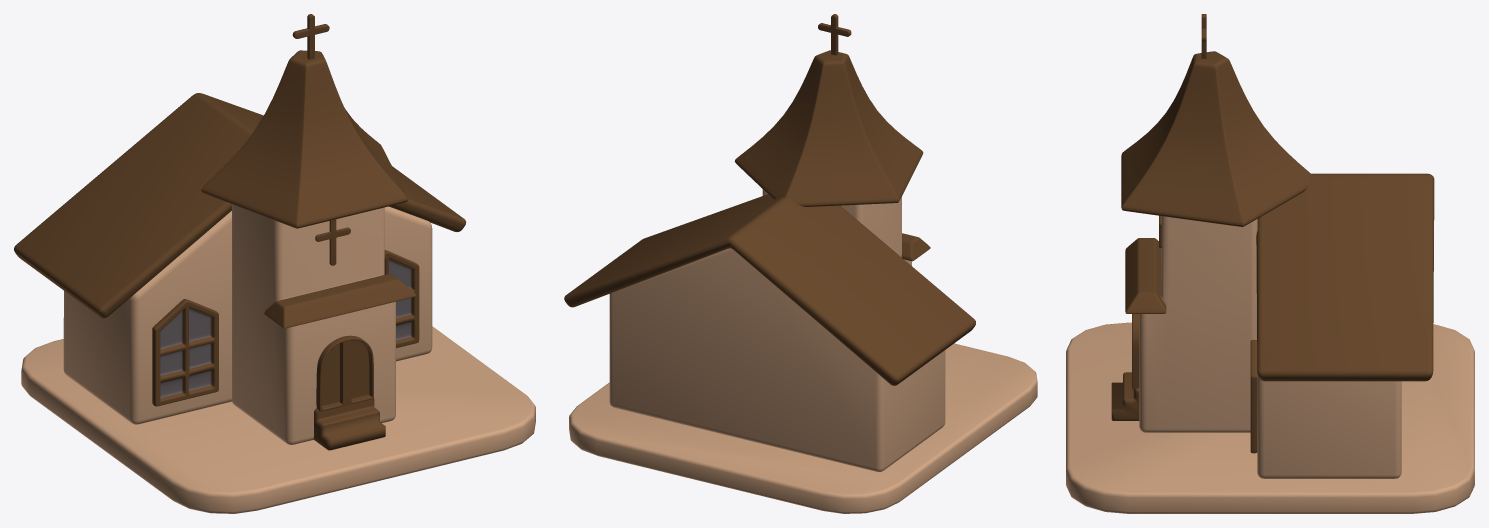
Rendered from Iglesia.fbx.
3 renders of one model, left to right at view 1: azimuth 30°, elevation 25°; view 2: azimuth 150°, elevation 25°; view 3: azimuth 270°, elevation 25°, orthographic. The views are drawn at different scales.
Parts seen in each view (by area): view 1: Cube.007, Cube.002, Cube, Cube.001, Cylinder, Cube.003, Cube.006, Cube.005, Cube.008, Cube.011; view 2: Cube.001, Cube.002, Cube.007, Cylinder, Cube, Cube.006; view 3: Cube.007, Cube.002, Cube, Cylinder, Cube.001, Cube.006, Cube.008, Cube.003, Cube.005.
Boxes of the visible parts, box(x1,y1,x2,y2) form: Cube.007: box(21, 326, 535, 513); Cube.002: box(14, 93, 466, 318); Cube: box(232, 204, 395, 444); Cube.001: box(63, 206, 432, 424); Cylinder: box(201, 50, 408, 228); Cube.003: box(152, 250, 419, 406); Cube.006: box(264, 273, 416, 328); Cube.005: box(316, 335, 373, 411); Cube.008: box(313, 398, 385, 450); Cube.011: box(292, 14, 329, 59); Cube.001: box(609, 248, 945, 471); Cube.002: box(564, 194, 975, 385); Cube.007: box(569, 343, 1037, 513); Cylinder: box(734, 50, 923, 206); Cube: box(762, 189, 911, 265); Cube.006: box(901, 233, 930, 261); Cube.007: box(1066, 322, 1474, 513); Cube.002: box(1256, 173, 1434, 381); Cube: box(1139, 216, 1257, 432); Cylinder: box(1121, 51, 1311, 226); Cube.001: box(1257, 373, 1401, 478); Cube.006: box(1125, 238, 1166, 313); Cube.008: box(1111, 372, 1139, 420); Cube.003: box(1250, 340, 1257, 453); Cube.005: box(1132, 314, 1139, 389).
Size of the model in its own units: 275 by 298 by 267.
